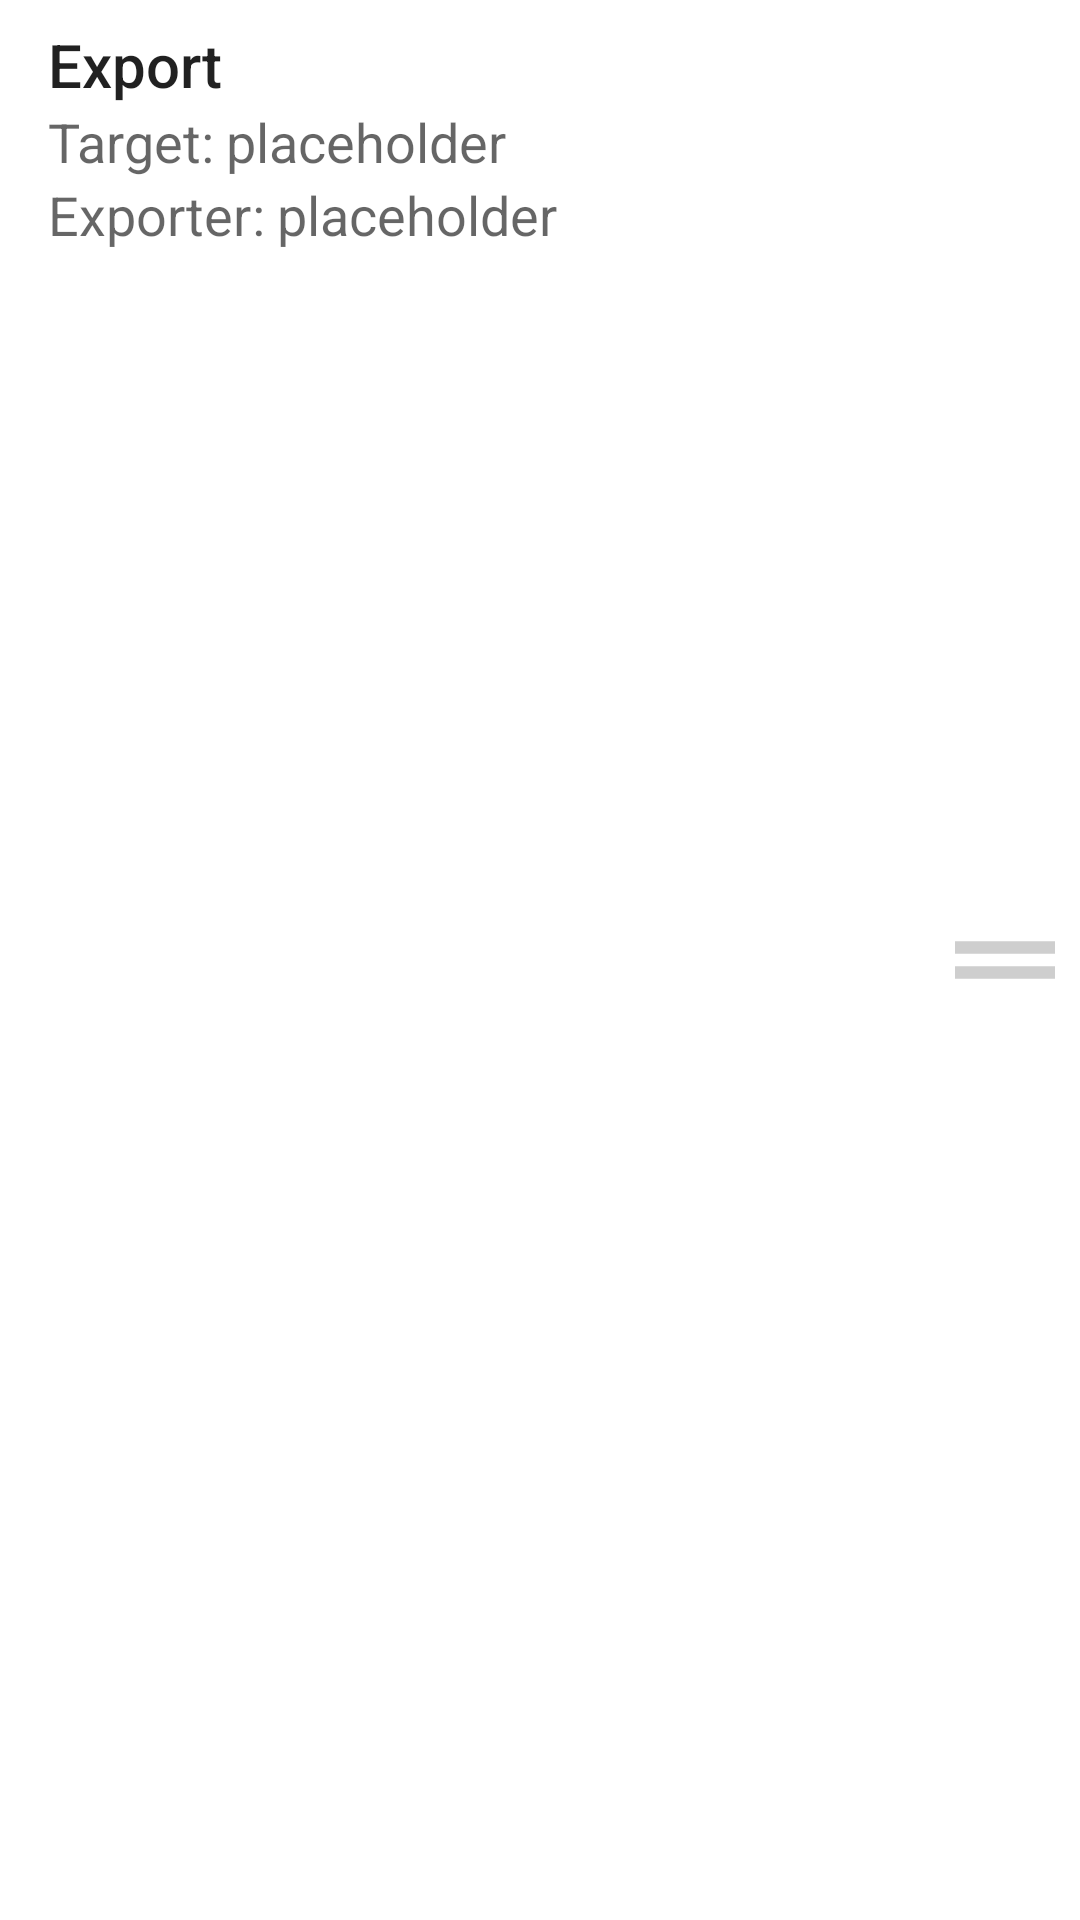

Icon bounding boxes for this 1080 x 1920 phone screenshot, format (x1, y1, x2, y2):
drag handle: (955, 941, 1055, 979)
